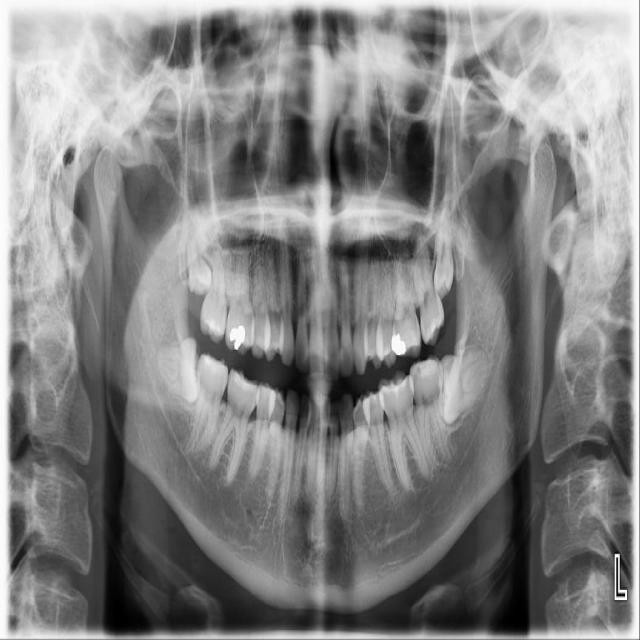Filling: (387, 330, 408, 356), (228, 323, 247, 350), (413, 360, 439, 378), (204, 317, 221, 338)
impacted tooth: (442, 345, 497, 423), (152, 339, 198, 402), (186, 226, 214, 297), (433, 201, 453, 296)
